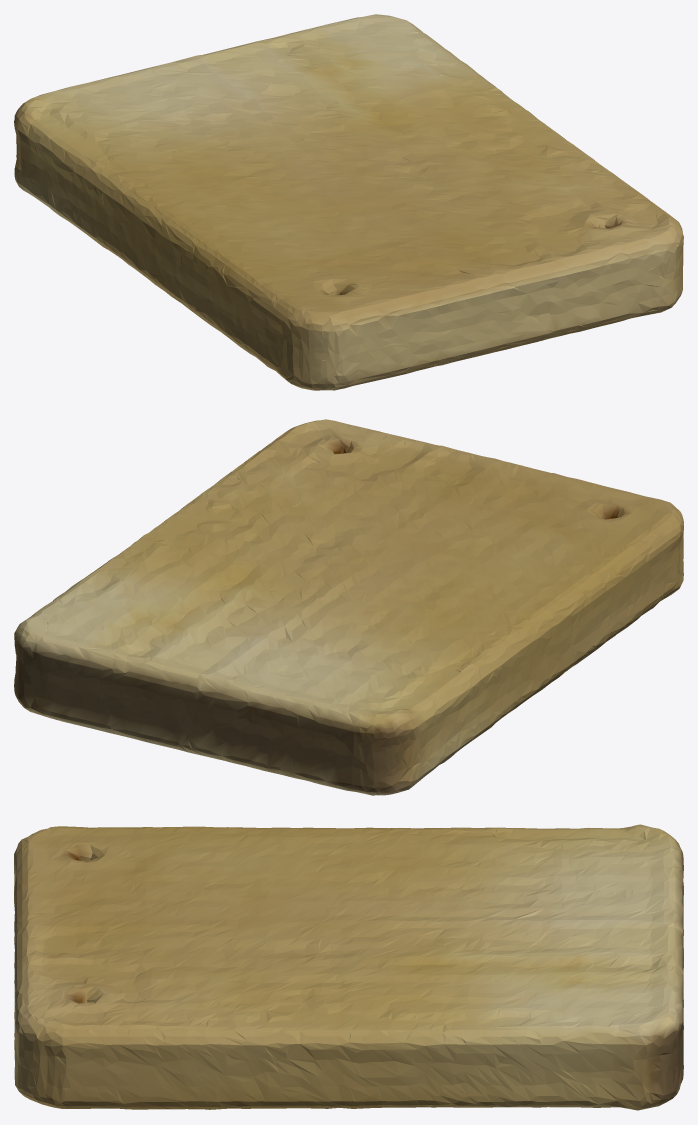
The model's file is cutting_board_1.glb.
3 renders of one model, top to bottom at view 1: azimuth 30°, elevation 25°; view 2: azimuth 150°, elevation 25°; view 3: azimuth 270°, elevation 25°, orthographic. The views are drawn at different scales.
Visible parts, largest first — view 1: geometry_0; view 2: geometry_0; view 3: geometry_0.
Boxes of the visible parts, box(x1,y1,x2,y2) form: geometry_0: box(14, 14, 683, 390); geometry_0: box(14, 419, 683, 795); geometry_0: box(14, 824, 683, 1110).
Size of the model in its own units: 0.7465 by 0.1431 by 1.
